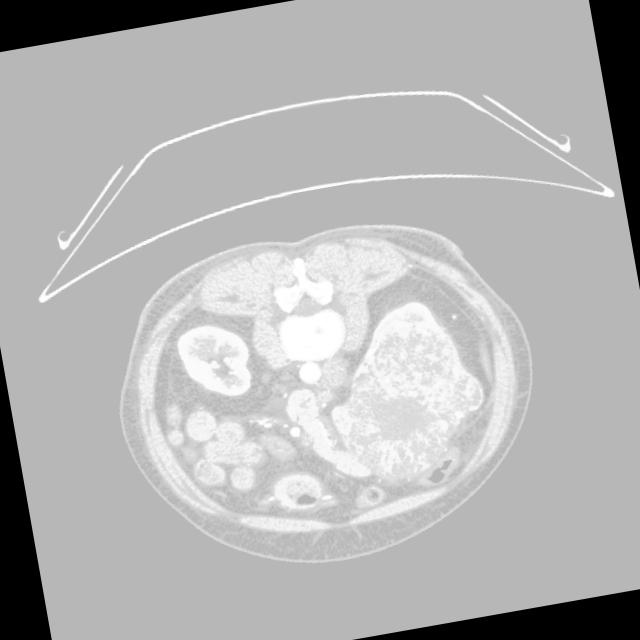TUMOR: (94, 272, 383, 523)
